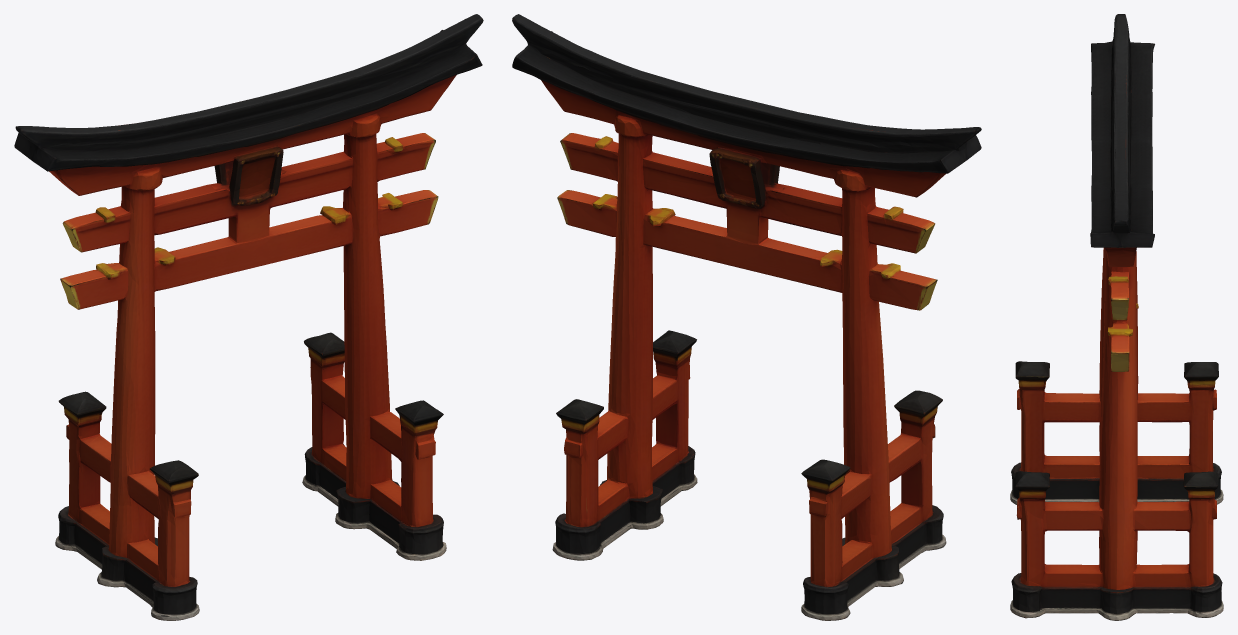
Rendered from torii.fbx.
The picture shows the model from 3 angles, left to right: view 1: azimuth 30°, elevation 25°; view 2: azimuth 150°, elevation 25°; view 3: azimuth 270°, elevation 25°; orthographic projection. The views are drawn at different scales.
Visible parts, largest first — view 1: geometry_0; view 2: geometry_0; view 3: geometry_0.
Boxes of the visible parts, <box> form: geometry_0: <box>14,14,483,620</box>; geometry_0: <box>512,14,981,620</box>; geometry_0: <box>1010,14,1223,620</box>.
Bounding box in the file's own units: 0.9995 × 0.9785 × 0.4345.
1 material, 1 textured.
